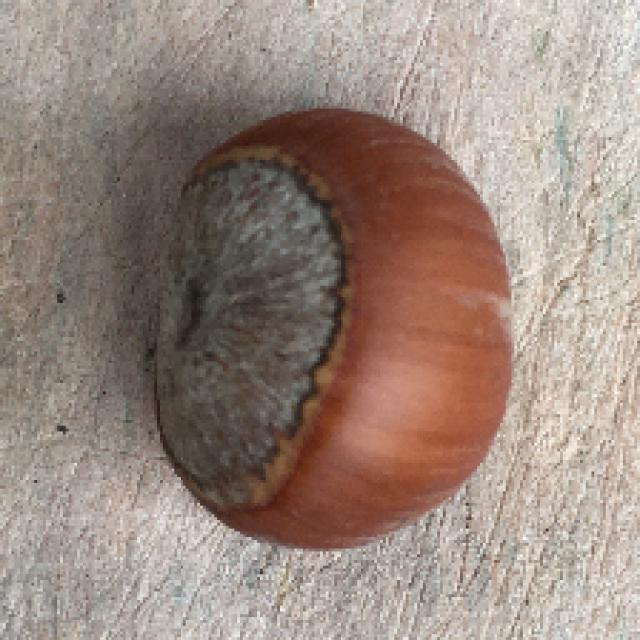QualityHazelnut: (149, 107, 521, 556)
